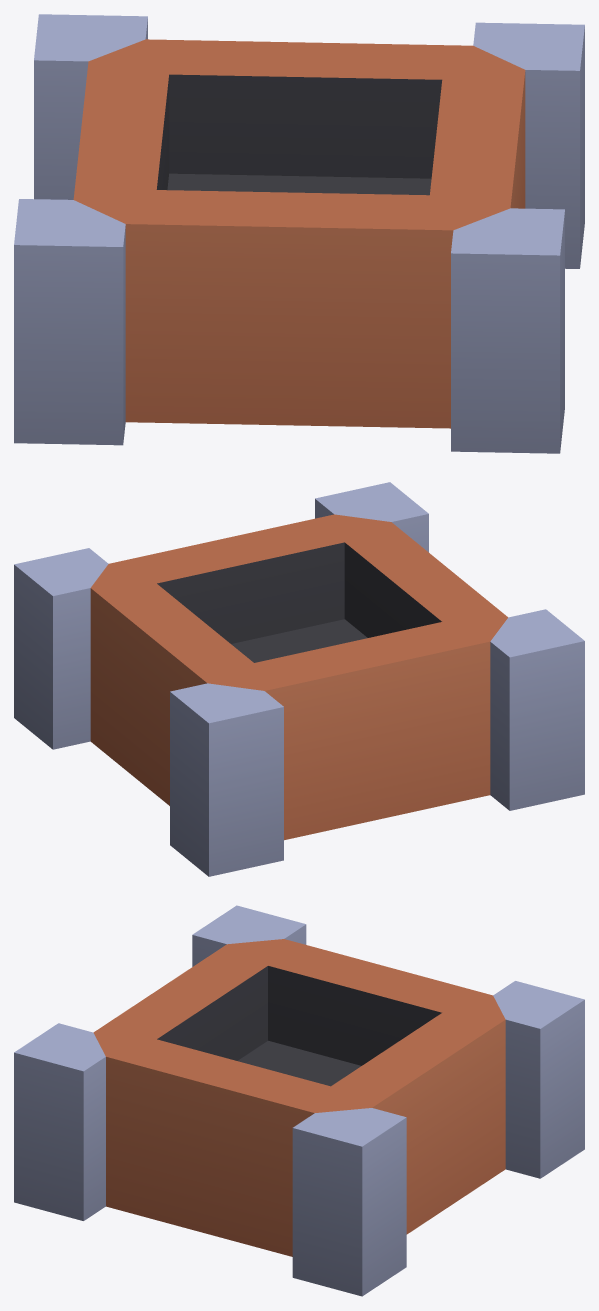
The model's file is n5_n5_n5_chest_lev5.glb.
The picture shows the model from 3 angles, top to bottom: view 1: azimuth 30°, elevation 25°; view 2: azimuth 150°, elevation 25°; view 3: azimuth 270°, elevation 25°; orthographic projection. The views are drawn at different scales.
Visible parts, largest first — view 1: n5_n5_n5_chest_lev5; view 2: n5_n5_n5_chest_lev5; view 3: n5_n5_n5_chest_lev5.
Part boxes in pixels (x1,y1,x2,y2): n5_n5_n5_chest_lev5: (14,14,584,453); n5_n5_n5_chest_lev5: (14,482,584,876); n5_n5_n5_chest_lev5: (14,905,584,1296).
Bounding box in the file's own units: 1.75 × 0.5082 × 1.75.
Materials: 1 (1 with a texture image).
